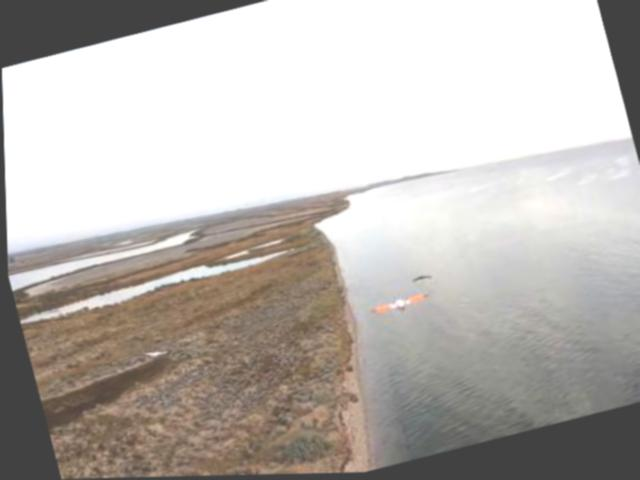uav: (367, 287, 430, 323)
